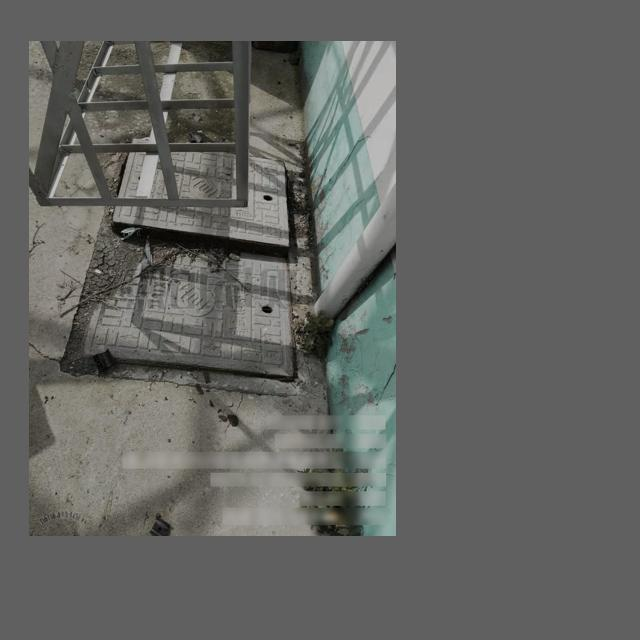uncovered: (63, 141, 299, 391)
